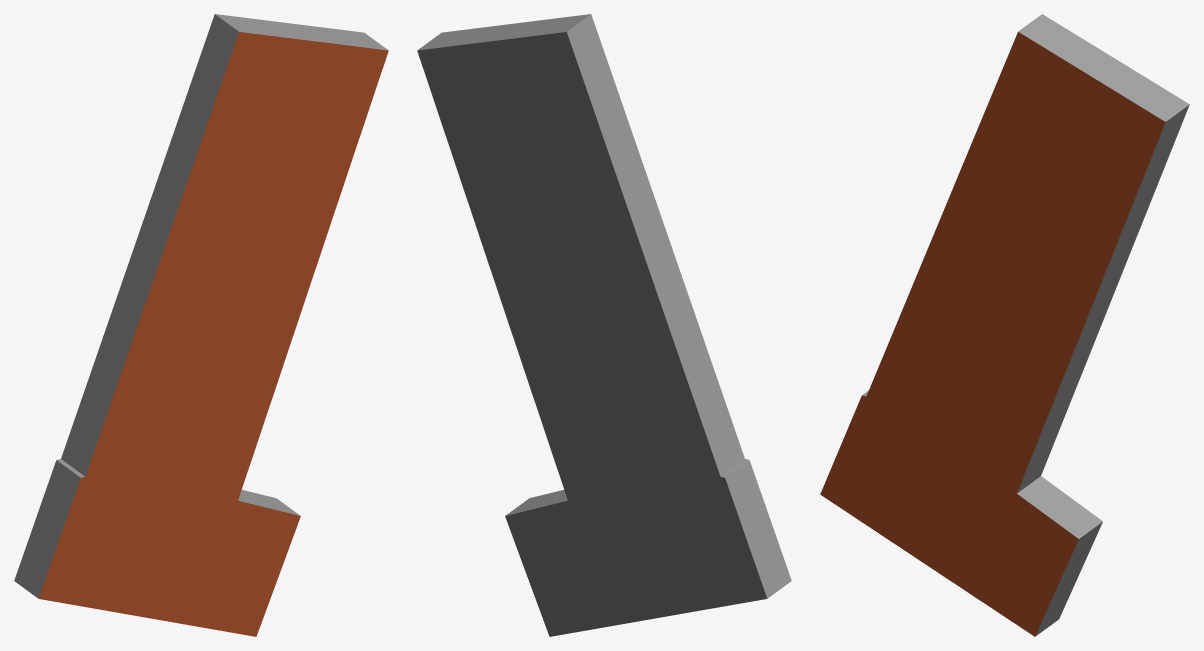
The model's file is construction_5569_assumed_A_Casa_h6m.obj.
3 views of the same model, side by side, from view 1: azimuth 30°, elevation 25°; view 2: azimuth 150°, elevation 25°; view 3: azimuth 330°, elevation 25° (orthographic).
Parts seen in each view (by area): view 1: construction_5569_assumed_A_Casa; view 2: construction_5569_assumed_A_Casa; view 3: construction_5569_assumed_A_Casa.
Part boxes in pixels (<box>): construction_5569_assumed_A_Casa: <box>14,14,388,636</box>; construction_5569_assumed_A_Casa: <box>417,14,791,636</box>; construction_5569_assumed_A_Casa: <box>820,14,1189,636</box>.
Bounding box in the file's own units: 49.56 × 82.39 × 6.
